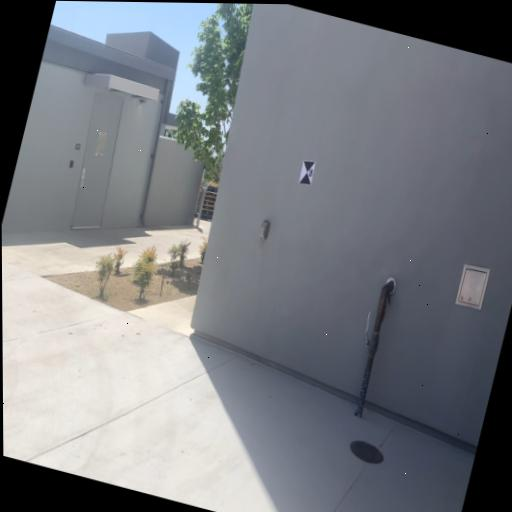target8: (298, 160, 317, 186)
